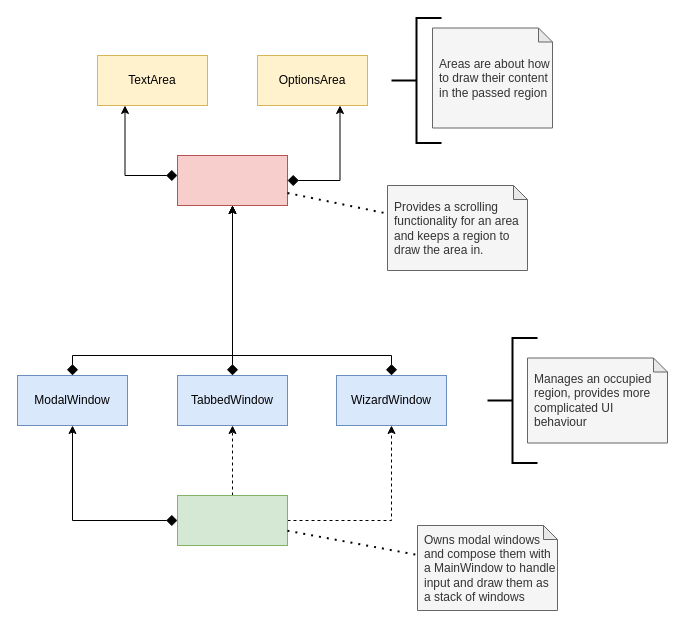
Some shapes in this 685 by 628 pixel diagram are drawn without their labels. The box of each missing label's shape, as (x1, y1, x2, y2) in pixels:
ScrollablePanel: (176, 154, 288, 206)
WindowCompositor: (176, 494, 288, 546)
